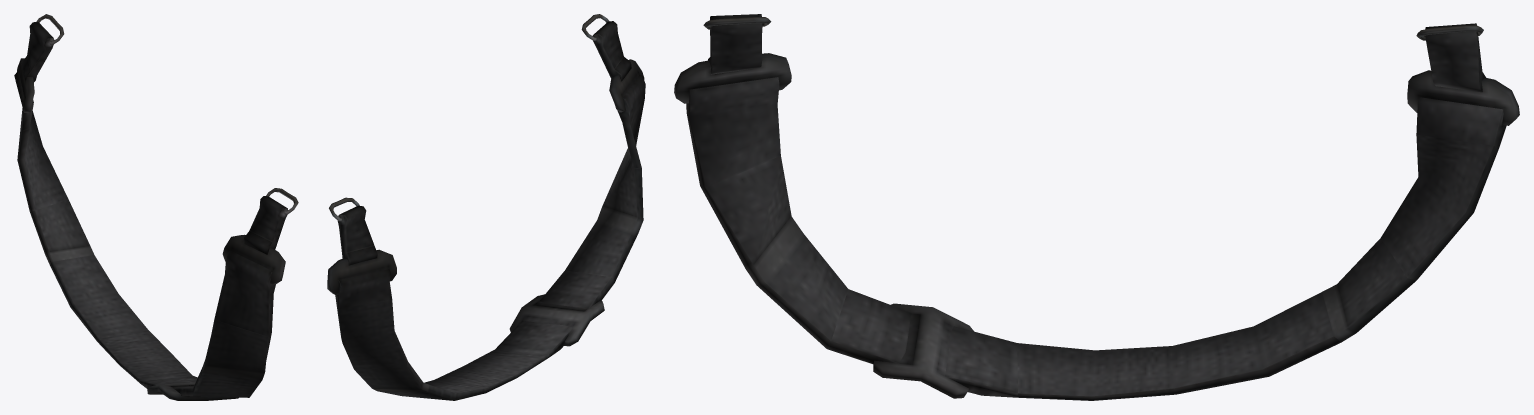
File: MP5_Sling.fbx
3 views of the same model, side by side, from view 1: azimuth 30°, elevation 25°; view 2: azimuth 150°, elevation 25°; view 3: azimuth 270°, elevation 25° (orthographic). The views are drawn at different scales.
Parts seen in each view (by area): view 1: MP5_Sling; view 2: MP5_Sling; view 3: MP5_Sling.
Boxes of the visible parts, bbox=[...] form: MP5_Sling: bbox=[14, 14, 298, 400]; MP5_Sling: bbox=[327, 14, 645, 400]; MP5_Sling: bbox=[674, 14, 1519, 400].
Bounding box in the file's own units: 0.0403 × 0.2644 × 0.1314.
